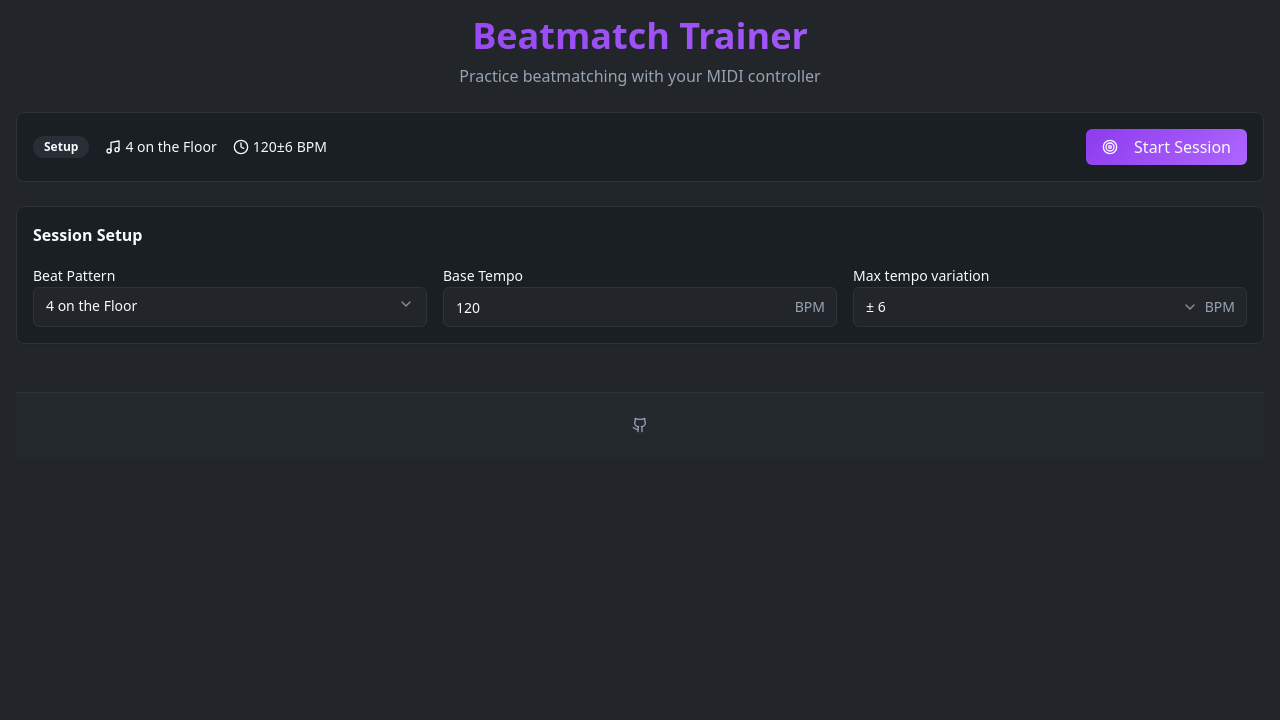
blocks MIDI transport outside a session and freezes scored results
Click the button "Start Session" at (1167, 147), box [1086,129,1247,165]
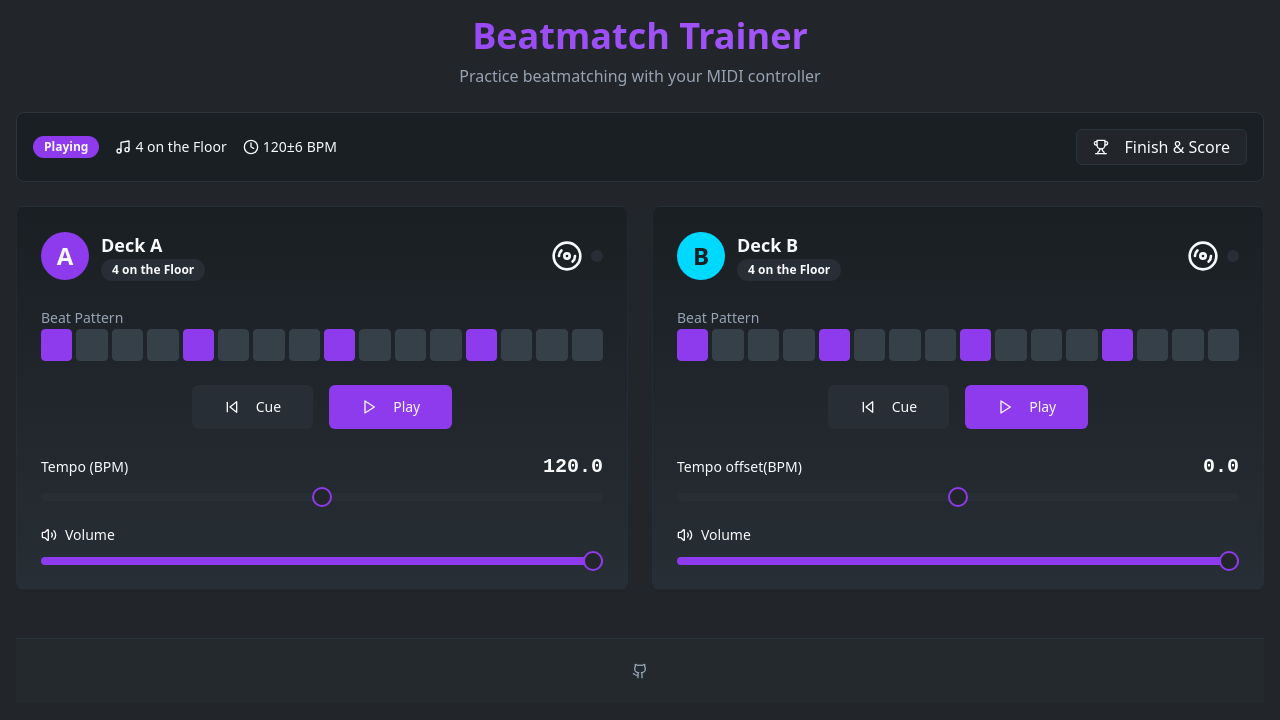
Click the button "Finish & Score" at (1161, 147), box [1076,129,1247,165]
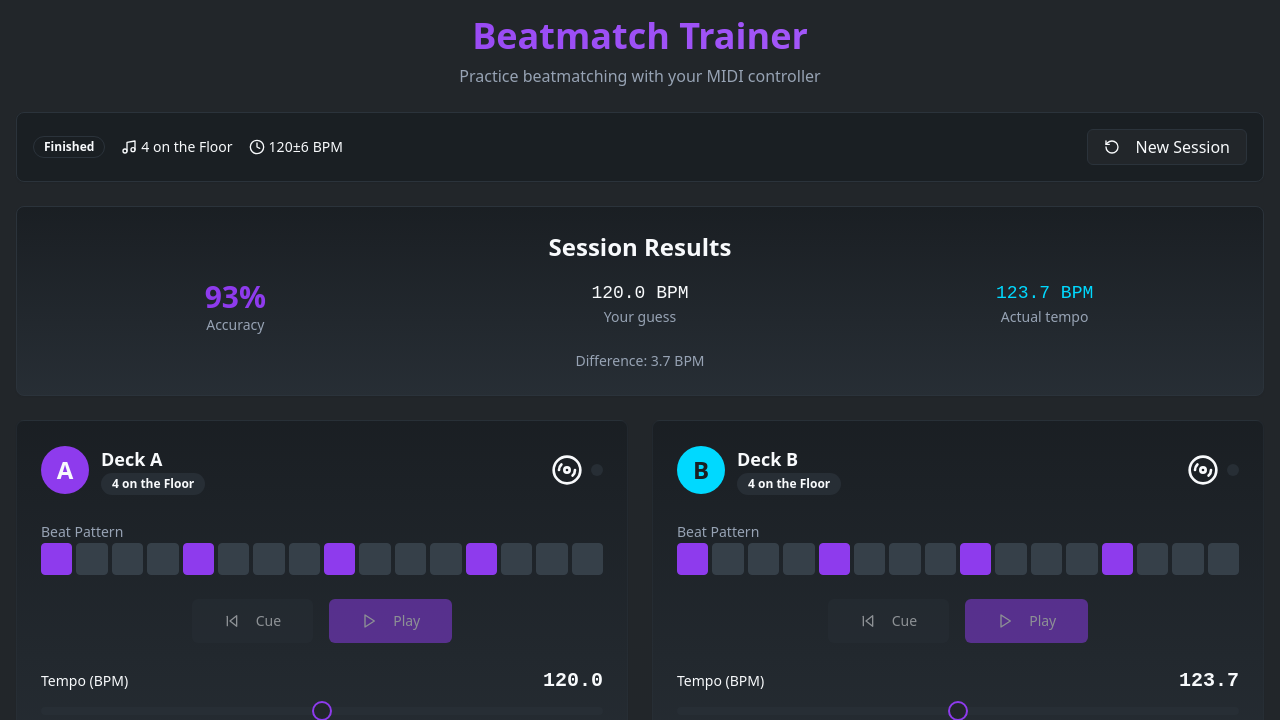
Click the button "New Session" at (1167, 147), box [1087,129,1247,165]
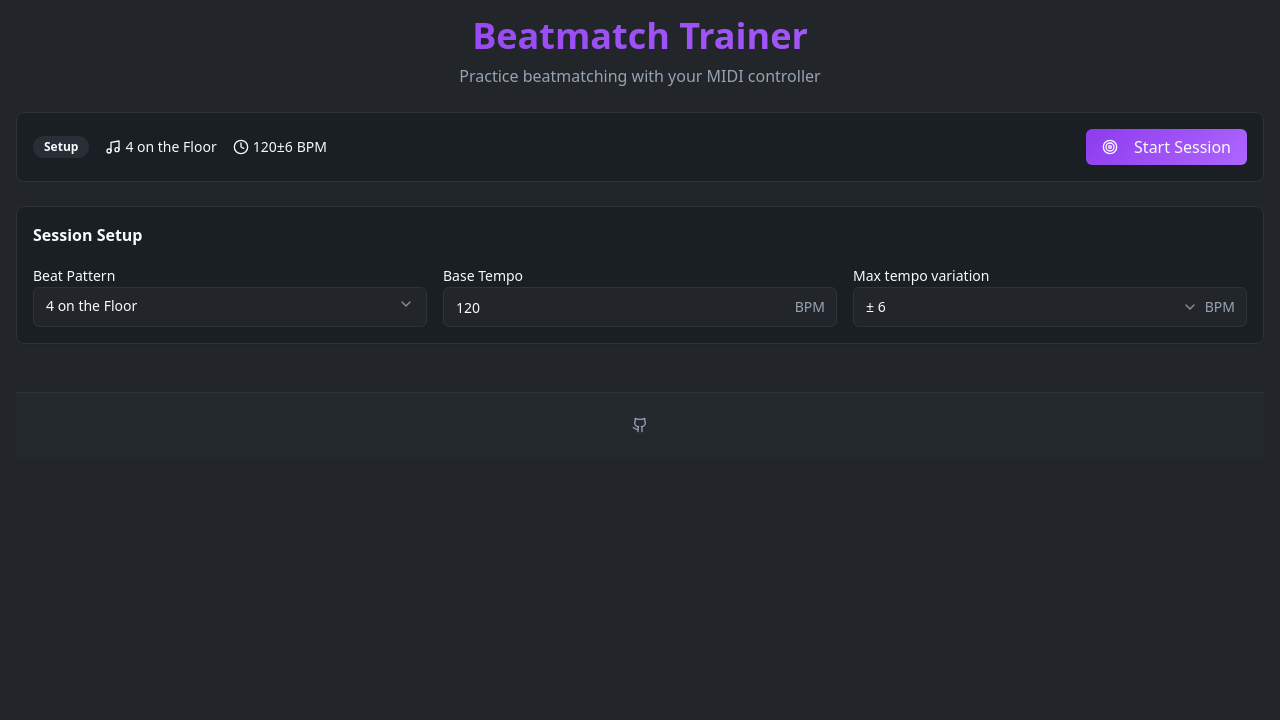
Result: the number field labelled "Base Tempo" holds "120" at [443,287,837,327]
